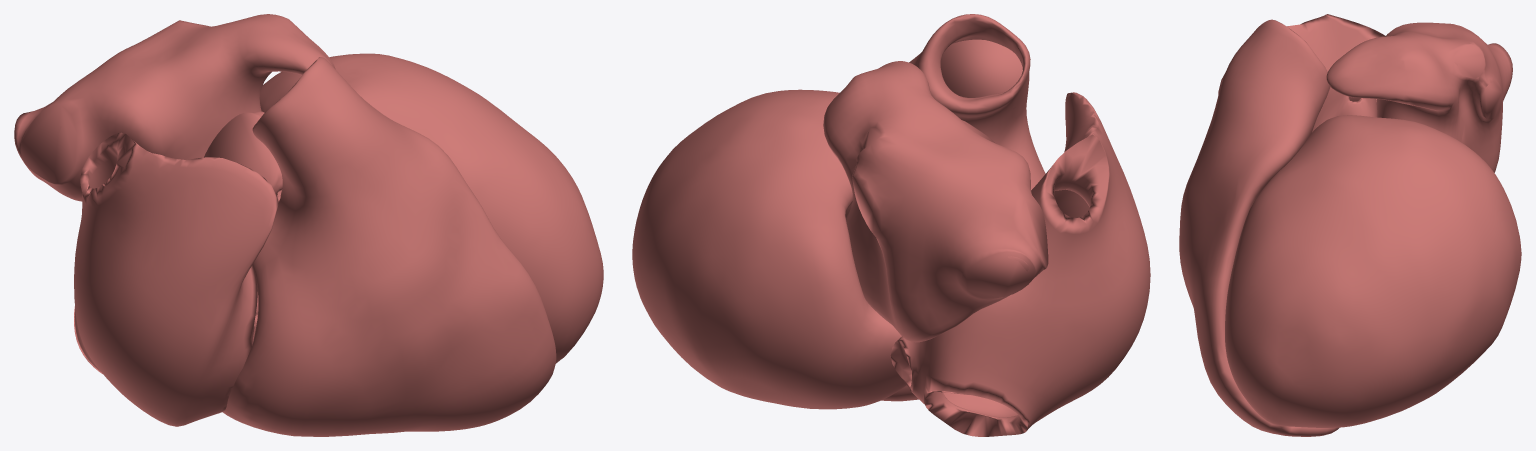
Rendered from vh_f_heart-80.glb.
3 renders of one model, left to right at view 1: azimuth 30°, elevation 25°; view 2: azimuth 150°, elevation 25°; view 3: azimuth 270°, elevation 25°, orthographic. The views are drawn at different scales.
Parts seen in each view (by area): view 1: VH_F_right_ventricle, VH_F_right_cardiac_atrium, VH_F_left_ventricle, VH_F_left_cardiac_atrium, VH_F_aortic_valve; view 2: VH_F_left_ventricle, VH_F_left_cardiac_atrium, VH_F_right_cardiac_atrium, VH_F_right_ventricle, VH_F_pulmonary_valve; view 3: VH_F_left_ventricle, VH_F_right_ventricle, VH_F_left_cardiac_atrium, VH_F_right_cardiac_atrium, VH_F_aortic_valve.
Boxes of the visible parts, x1=… form: VH_F_right_ventricle: x1=222, y1=57, x2=556, y2=436; VH_F_right_cardiac_atrium: x1=74, y1=132, x2=278, y2=426; VH_F_left_ventricle: x1=259, y1=53, x2=603, y2=363; VH_F_left_cardiac_atrium: x1=14, y1=14, x2=335, y2=201; VH_F_aortic_valve: x1=204, y1=111, x2=282, y2=202; VH_F_left_ventricle: x1=632, y1=89, x2=906, y2=409; VH_F_left_cardiac_atrium: x1=823, y1=61, x2=1048, y2=342; VH_F_right_cardiac_atrium: x1=890, y1=92, x2=1150, y2=436; VH_F_right_ventricle: x1=881, y1=14, x2=1045, y2=401; VH_F_pulmonary_valve: x1=940, y1=39, x2=1022, y2=108; VH_F_left_ventricle: x1=1225, y1=115, x2=1521, y2=427; VH_F_right_ventricle: x1=1179, y1=19, x2=1339, y2=436; VH_F_left_cardiac_atrium: x1=1326, y1=22, x2=1512, y2=172; VH_F_right_cardiac_atrium: x1=1218, y1=14, x2=1385, y2=101; VH_F_aortic_valve: x1=1312, y1=87, x2=1377, y2=132.
Size of the model in its own units: 0.1425 by 0.11 by 0.1015.
